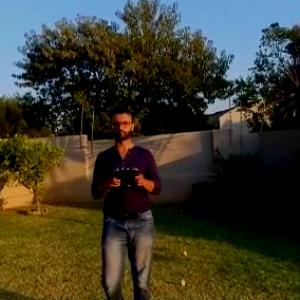follow: (86, 101, 168, 299)
